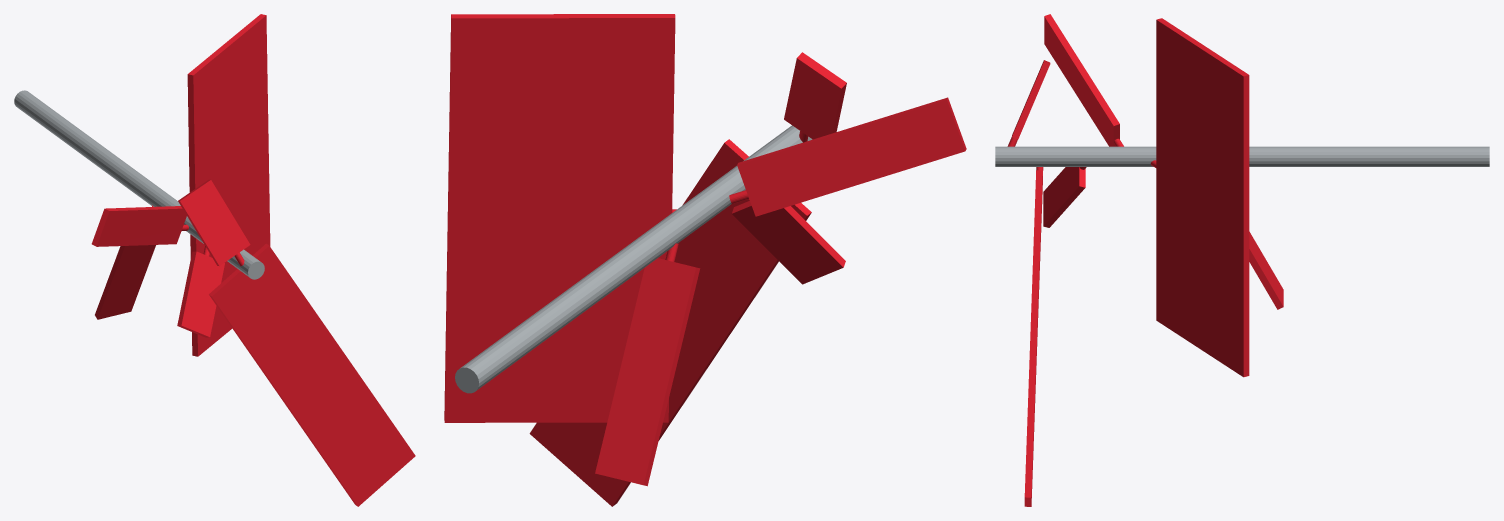
File: tinker.obj
The picture shows the model from 3 angles, left to right: view 1: azimuth 30°, elevation 25°; view 2: azimuth 150°, elevation 25°; view 3: azimuth 270°, elevation 25°; orthographic projection. The views are drawn at different scales.
Parts seen in each view (by area): view 1: group_0_15277357, group_0_10988977; view 2: group_0_15277357, group_0_10988977; view 3: group_0_15277357, group_0_10988977.
Part boxes in pixels (x1,y1,x2,y2): group_0_15277357: (91,14,415,506); group_0_10988977: (14,90,264,279); group_0_15277357: (444,14,966,506); group_0_10988977: (455,125,812,393); group_0_15277357: (1007,14,1283,506); group_0_10988977: (995,146,1489,166).
Bounding box in the file's own units: 55.51 × 70.2 × 72.
